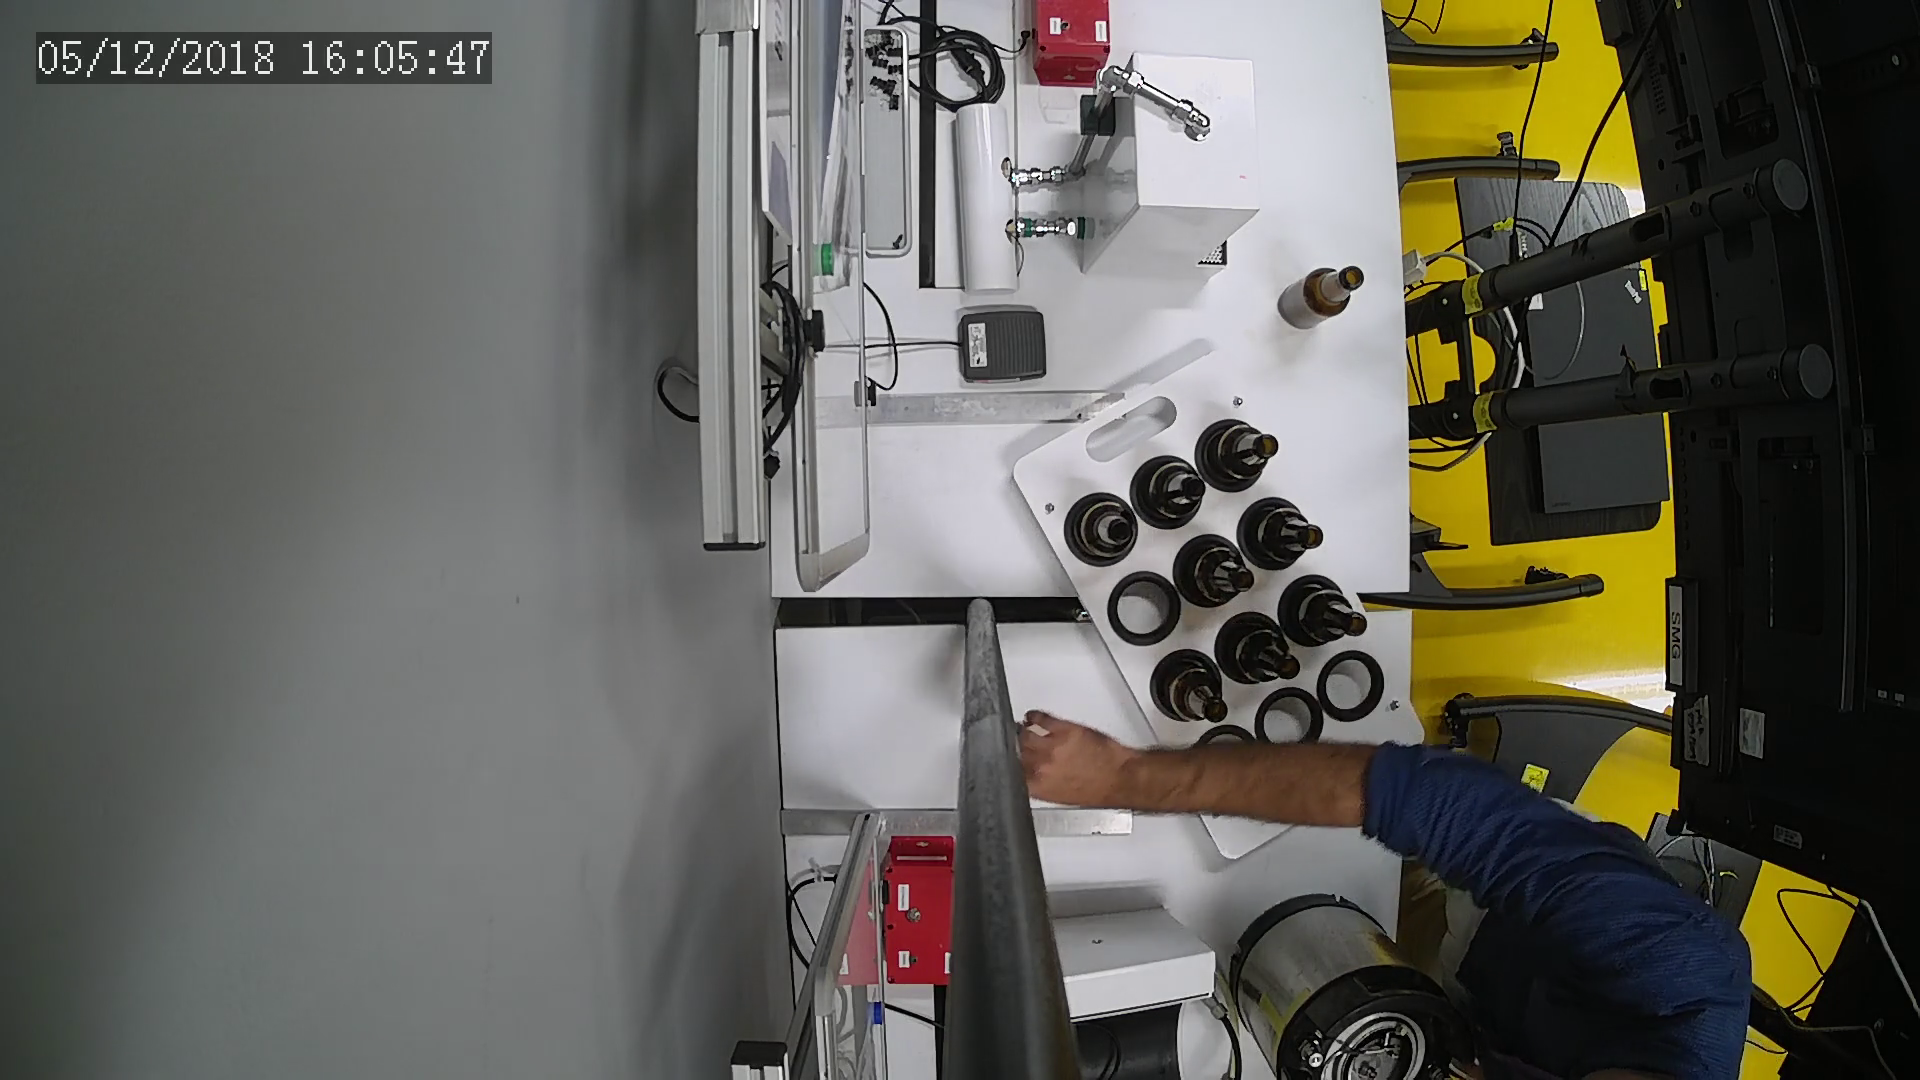filled_bottle: (1147, 649, 1236, 732), (1215, 611, 1303, 688), (1283, 576, 1371, 651), (1197, 415, 1283, 491), (1176, 535, 1262, 609), (1065, 491, 1145, 570), (1241, 498, 1327, 570), (1129, 454, 1208, 530)
trolley: (1007, 353, 1435, 865)
unfilled_bottle: (1276, 265, 1370, 334)
